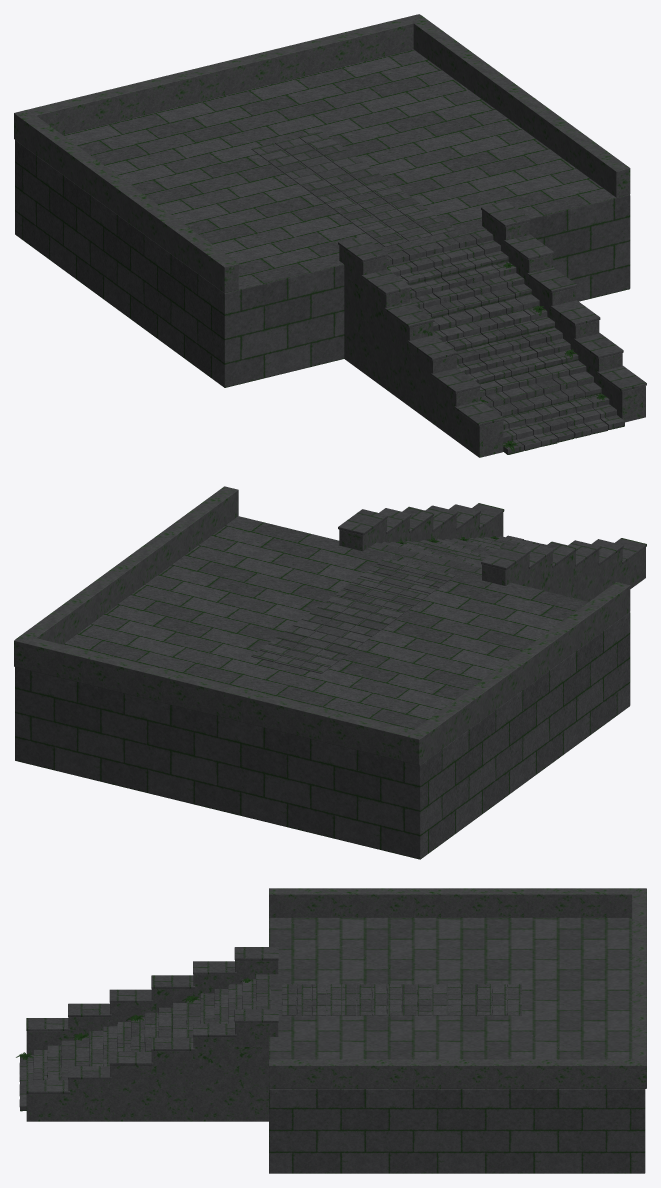
The model's file is ShrineStoneSteps_Sando.fbx.
The picture shows the model from 3 angles, top to bottom: view 1: azimuth 30°, elevation 25°; view 2: azimuth 150°, elevation 25°; view 3: azimuth 270°, elevation 25°; orthographic projection. The views are drawn at different scales.
Parts seen in each view (by area): view 1: ShrineStoneSteps_Sando; view 2: ShrineStoneSteps_Sando; view 3: ShrineStoneSteps_Sando.
Part boxes in pixels (x1=…): ShrineStoneSteps_Sando: x1=14, y1=14, x2=646, y2=457; ShrineStoneSteps_Sando: x1=14, y1=486, x2=646, y2=859; ShrineStoneSteps_Sando: x1=16, y1=888, x2=646, y2=1173.
Size of the model in its own units: 14.52 by 4.16 by 21.86.
